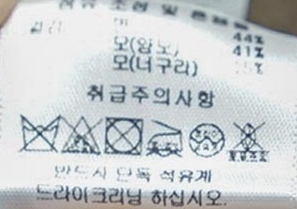KR_dry_clean_petroleum: (188, 121, 225, 160)
KR_no_tumble_dry: (101, 111, 146, 159)
KR_no_wash: (17, 110, 62, 156)
